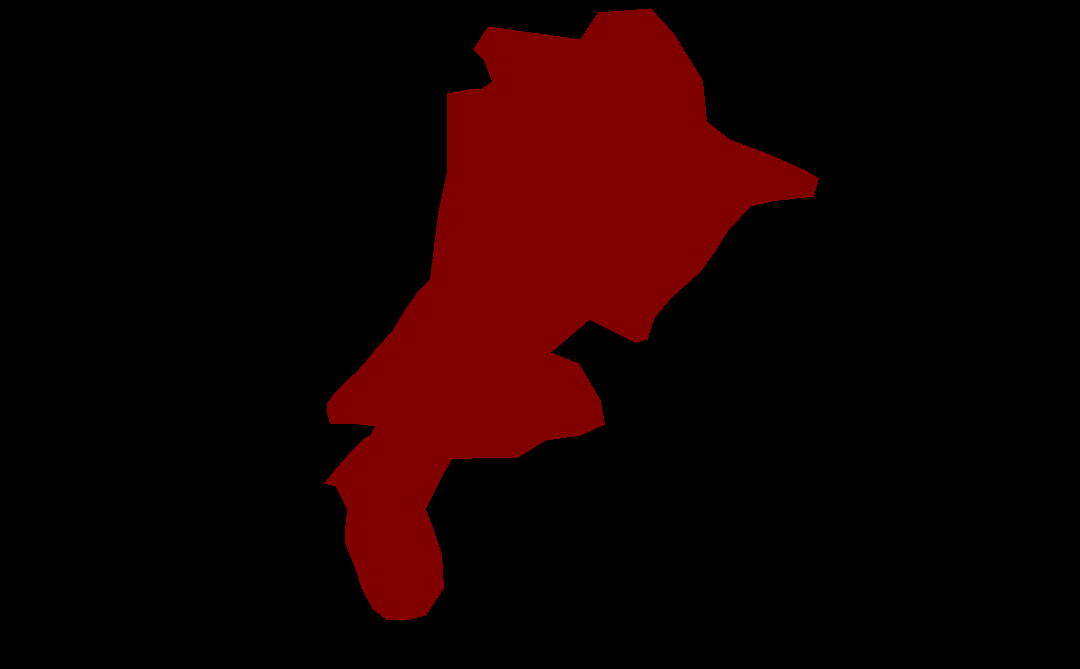fire: (324, 8, 818, 619)
